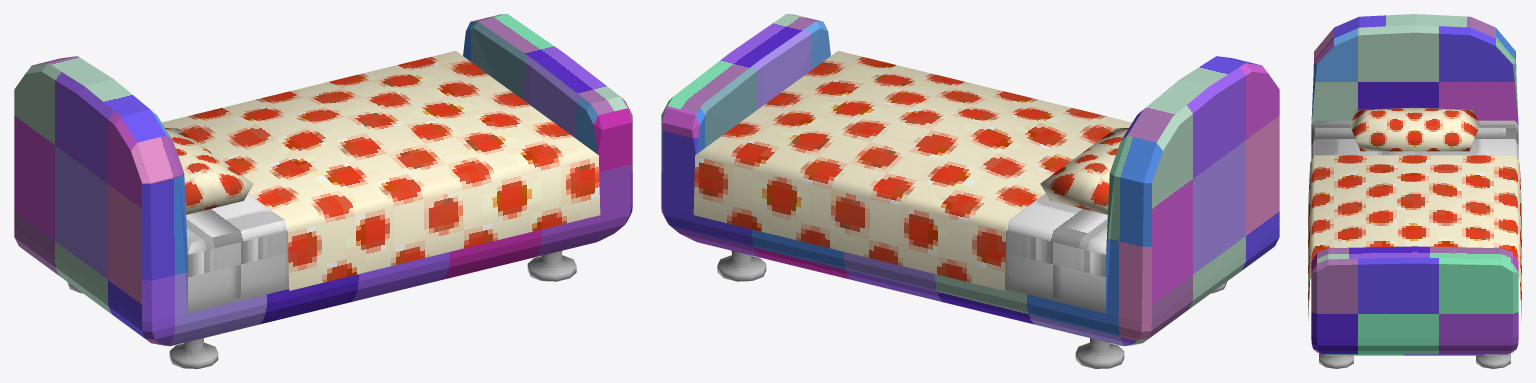
File: rmk_dot_bedS_jwl.dae
3 renders of one model, left to right at view 1: azimuth 30°, elevation 25°; view 2: azimuth 150°, elevation 25°; view 3: azimuth 270°, elevation 25°, orthographic. The views are drawn at different scales.
Visible parts, largest first — view 1: rmk_dot_bedS_jwl; view 2: rmk_dot_bedS_jwl; view 3: rmk_dot_bedS_jwl.
Part boxes in pixels (x1,y1,x2,y2): rmk_dot_bedS_jwl: (14, 14, 632, 368); rmk_dot_bedS_jwl: (661, 14, 1279, 368); rmk_dot_bedS_jwl: (1308, 14, 1521, 368).
Bounding box in the file's own units: 62.38 × 30.3 × 30.72.
3 materials, 3 textured.
